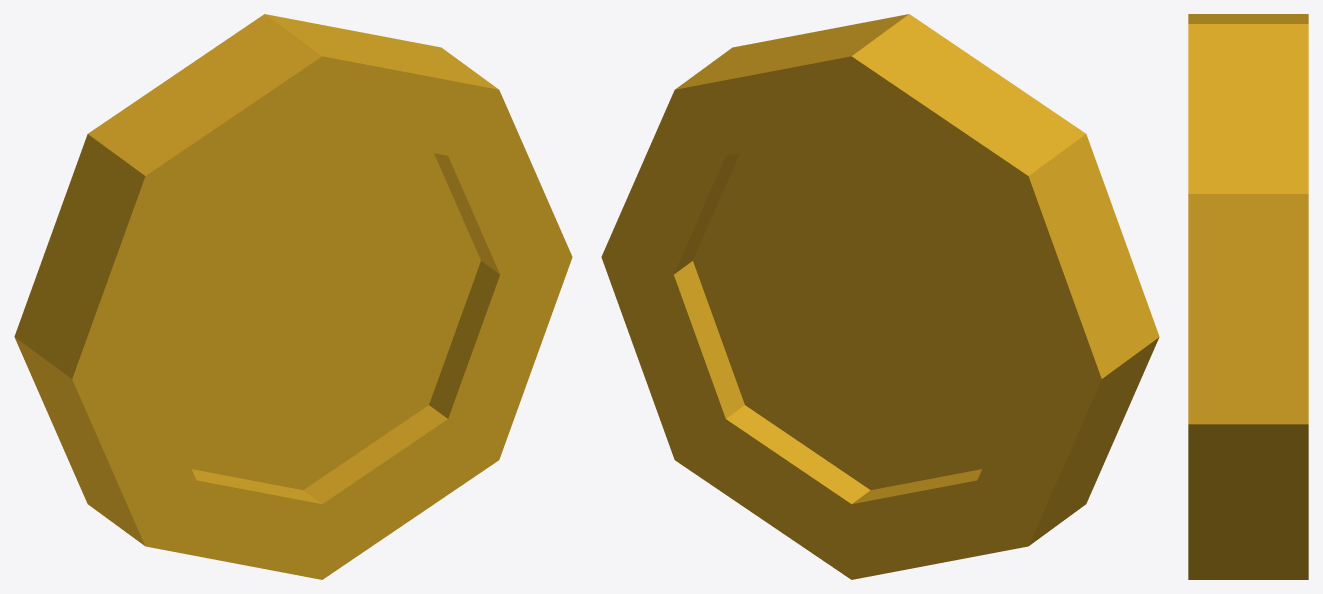
The model's file is Coins.fbx.
3 views of the same model, side by side, from view 1: azimuth 30°, elevation 25°; view 2: azimuth 150°, elevation 25°; view 3: azimuth 270°, elevation 25° (orthographic). The views are drawn at different scales.
Parts seen in each view (by area): view 1: Coins; view 2: Coins; view 3: Coins.
Part boxes in pixels (x1,y1,x2,y2): Coins: (14,14,572,579); Coins: (601,14,1159,579); Coins: (1188,14,1308,579).
Bounding box in the file's own units: 240 × 240 × 48.
